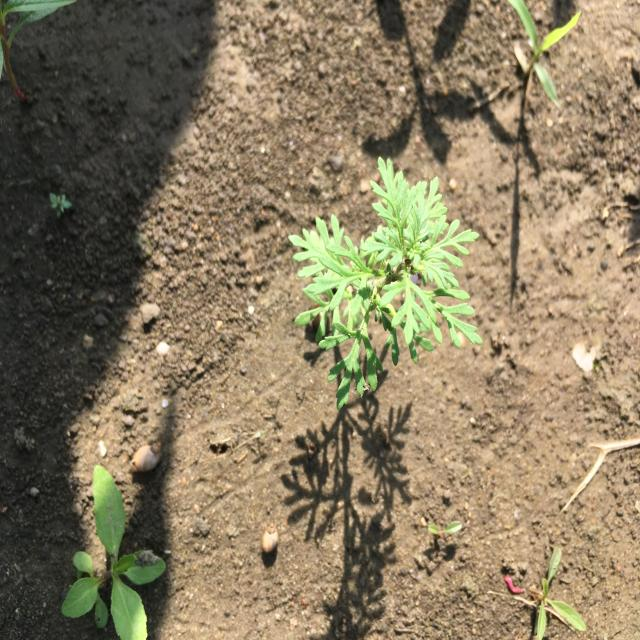Eclipta: (60, 461, 168, 639)
Ragweed: (284, 156, 486, 412)
